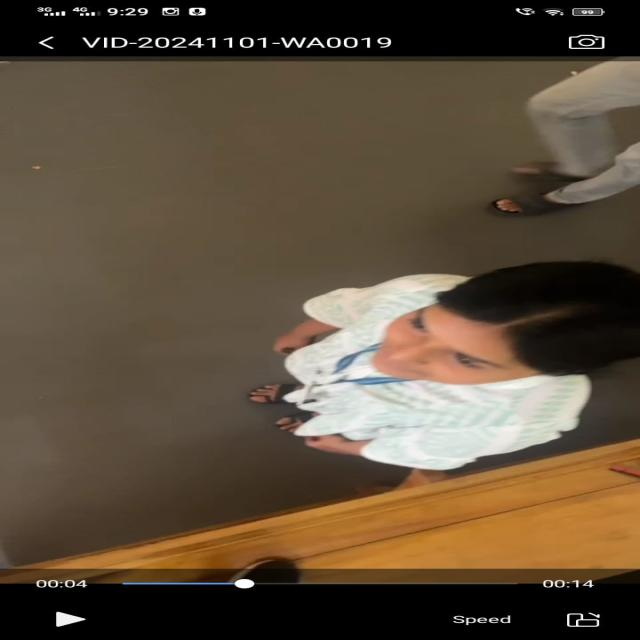humans: (255, 258, 640, 472)
